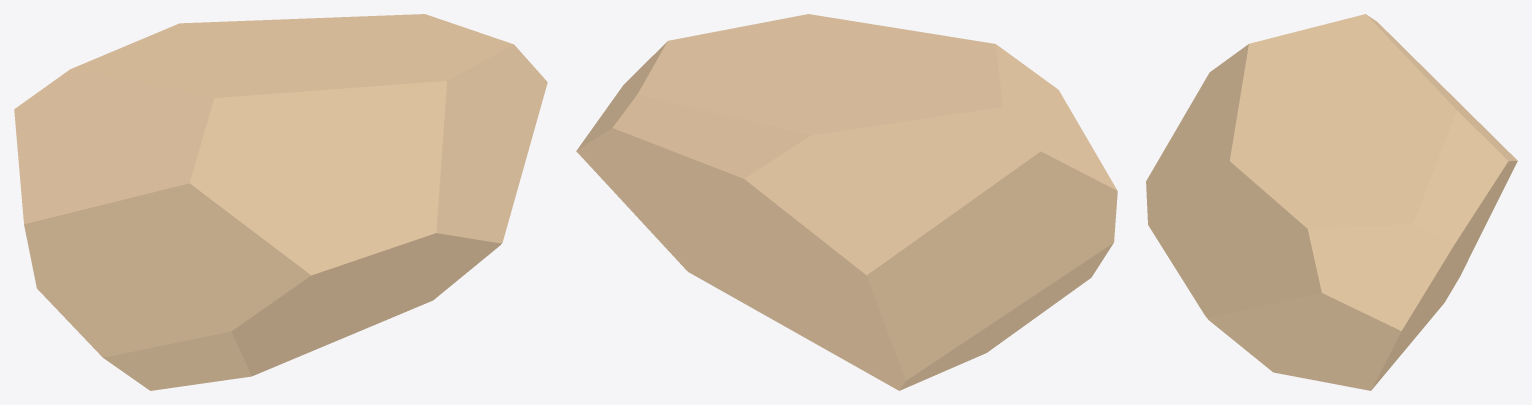
Rendered from stone-oval.glb.
3 views of the same model, side by side, from view 1: azimuth 30°, elevation 25°; view 2: azimuth 150°, elevation 25°; view 3: azimuth 270°, elevation 25° (orthographic). The views are drawn at different scales.
Parts seen in each view (by area): view 1: stone-oval; view 2: stone-oval; view 3: stone-oval.
Part boxes in pixels (x1,y1,x2,y2): stone-oval: [14, 14, 547, 390]; stone-oval: [576, 14, 1117, 390]; stone-oval: [1146, 14, 1517, 390].
Size of the model in its own units: 1.04 by 0.5677 by 0.7121.
1 material, 1 textured.
